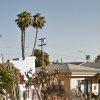Palm tree: (12, 7, 47, 56)
